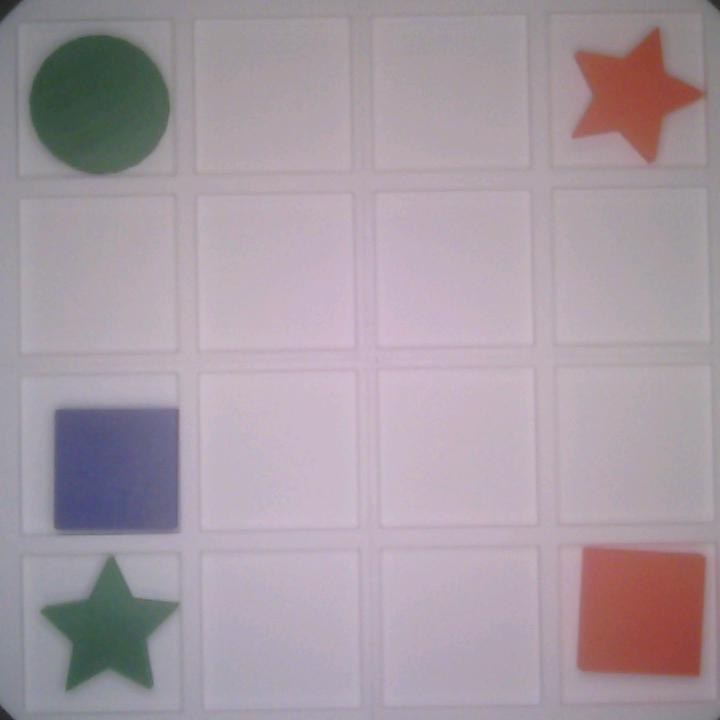Blue square: (50, 398, 184, 539)
Green circle: (28, 31, 175, 173)
Green star: (37, 550, 186, 698)
Orange square: (571, 546, 709, 682)
Orange star: (565, 25, 704, 163)
